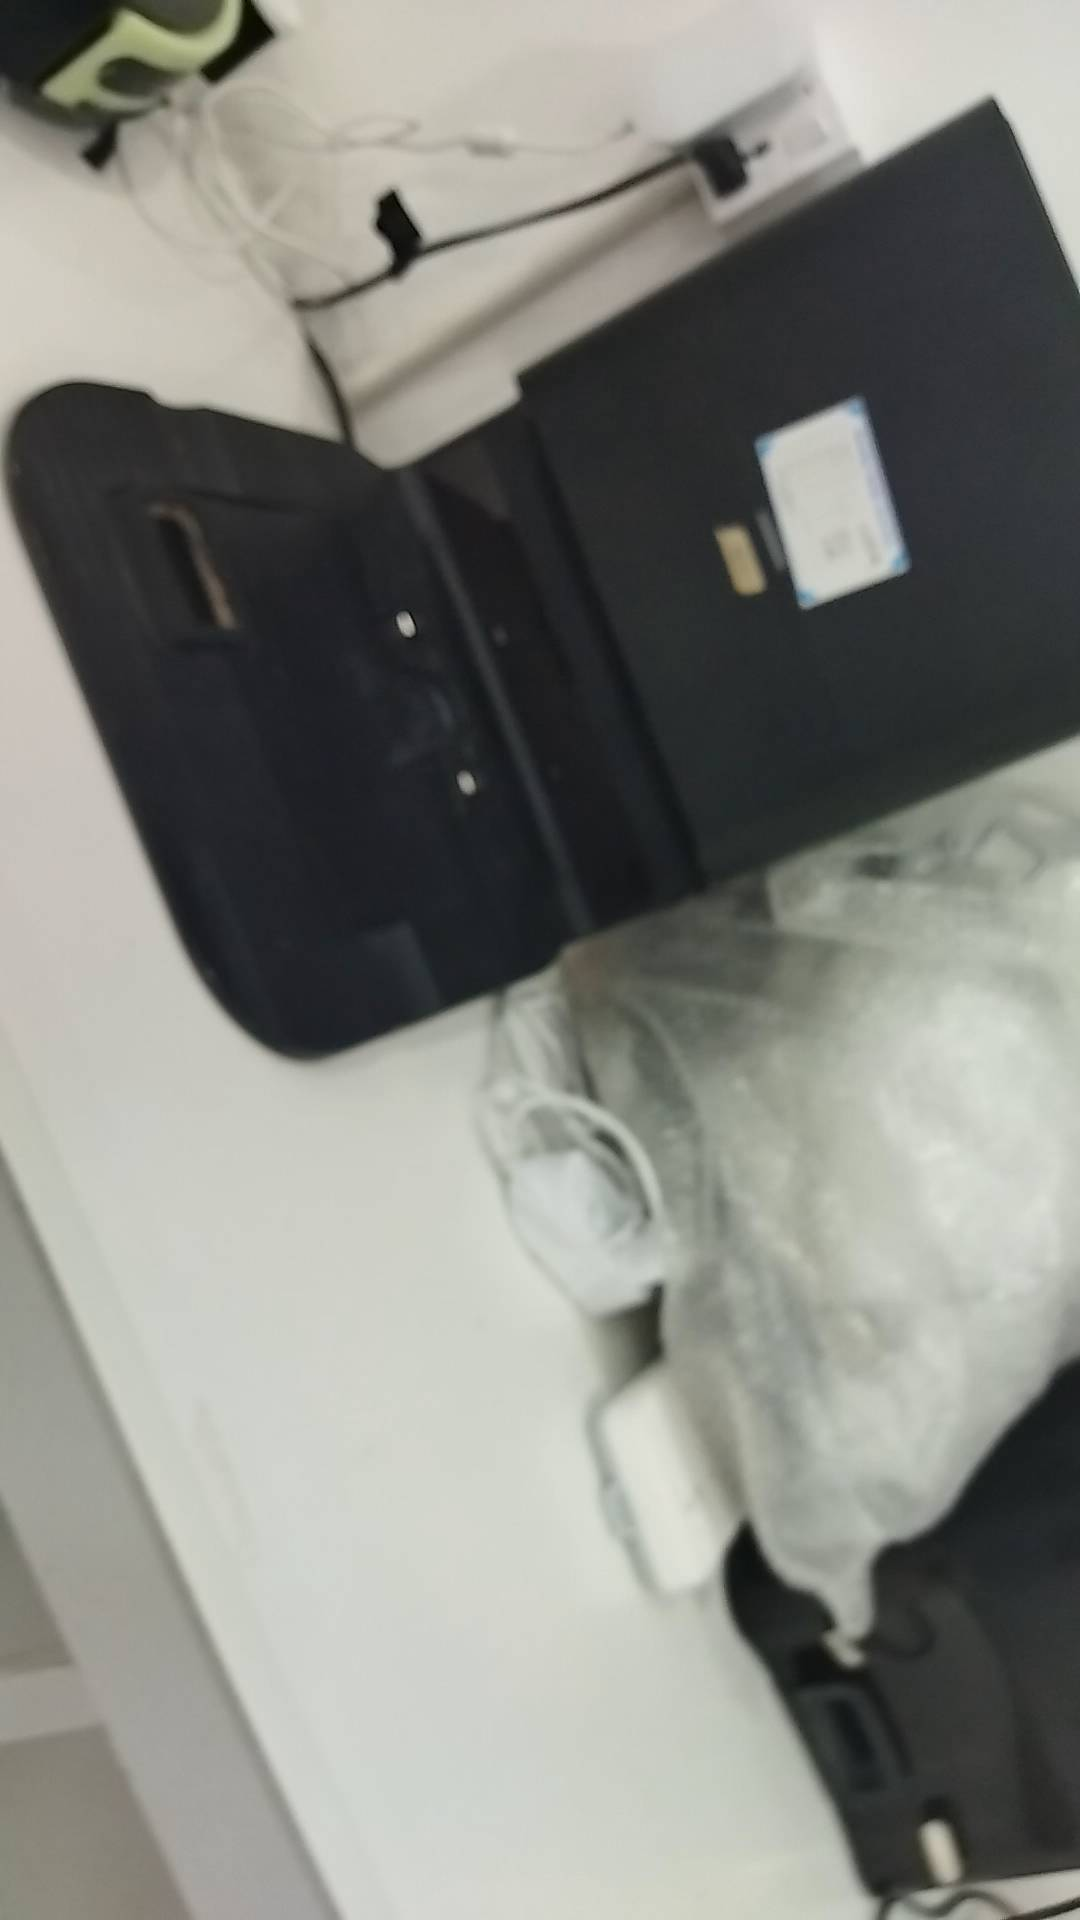dust collecting barrel: (17, 84, 1080, 1072)
